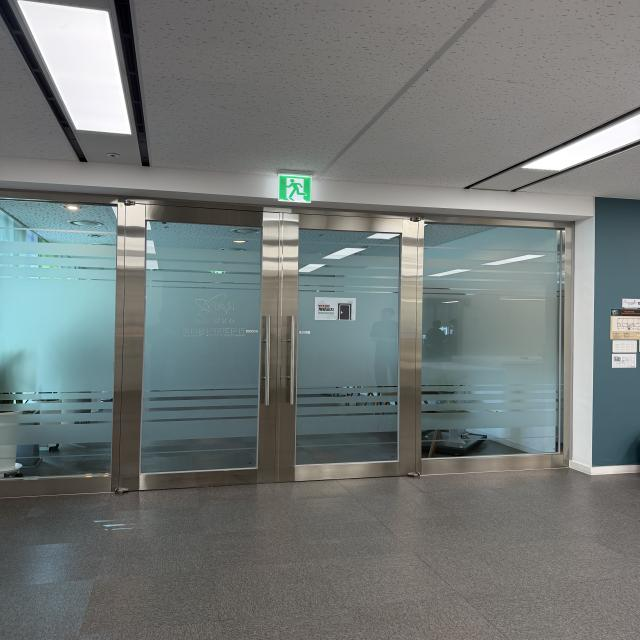front_door: (2, 190, 577, 496)
